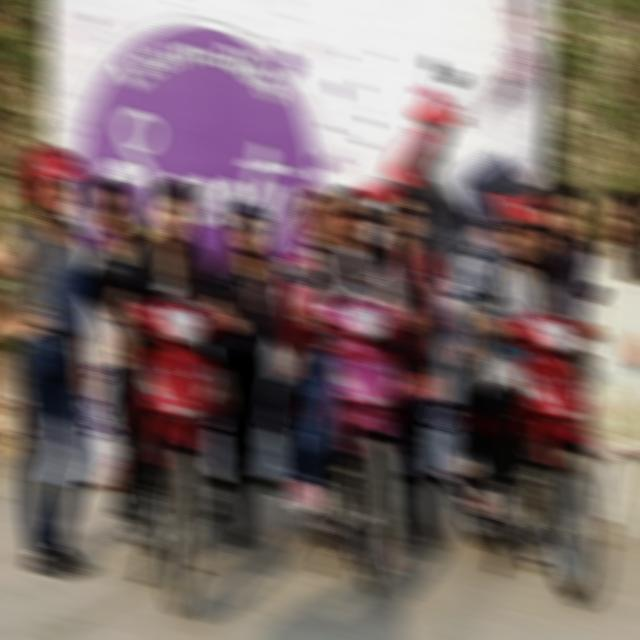With Helmet: (21, 130, 86, 220), (488, 186, 552, 262)
Without Helmet: (148, 174, 197, 247), (326, 177, 375, 247)
